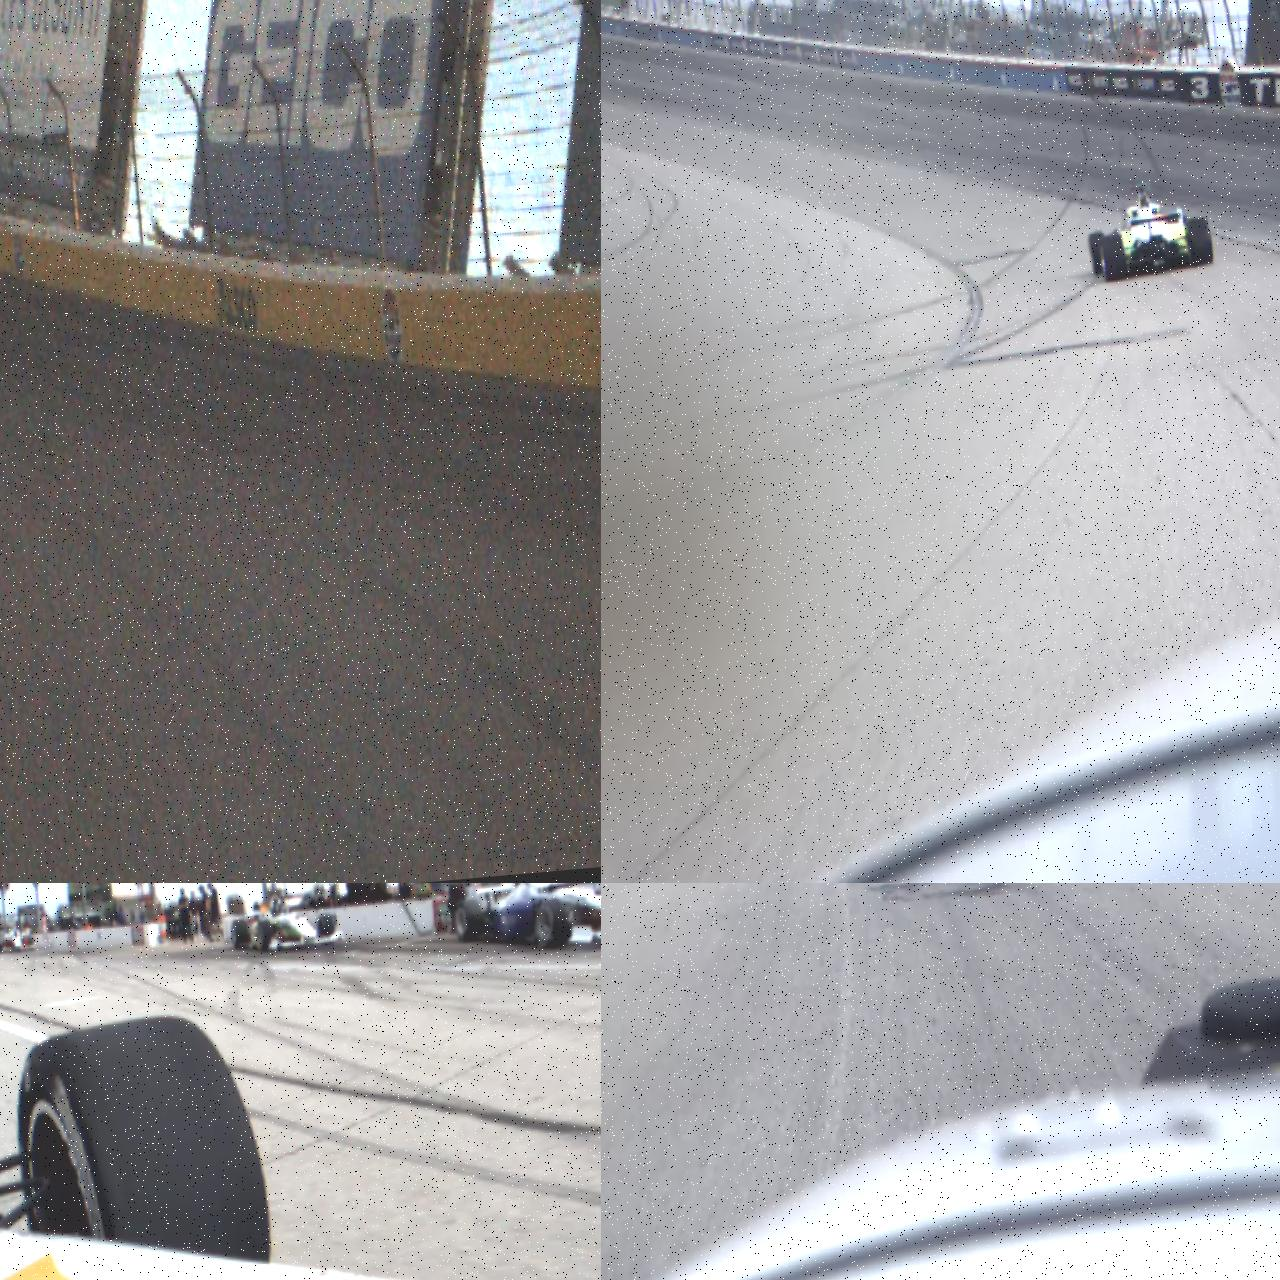AV: (1084, 177, 1216, 285), (448, 883, 601, 960), (226, 883, 343, 955)
Wheel: (7, 1006, 274, 1280), (531, 896, 570, 952), (1186, 217, 1214, 268), (1099, 233, 1128, 282), (452, 899, 482, 944), (1088, 231, 1108, 278), (316, 914, 336, 946), (231, 920, 250, 949), (256, 920, 272, 951)
